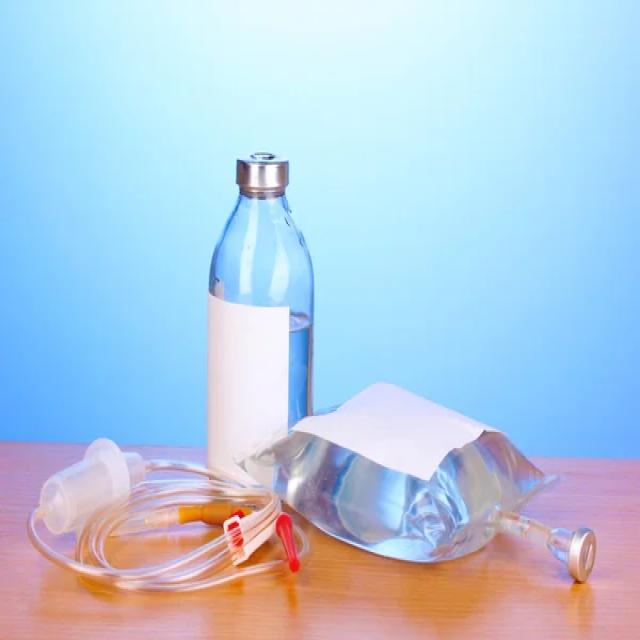B3: (198, 146, 336, 545)
